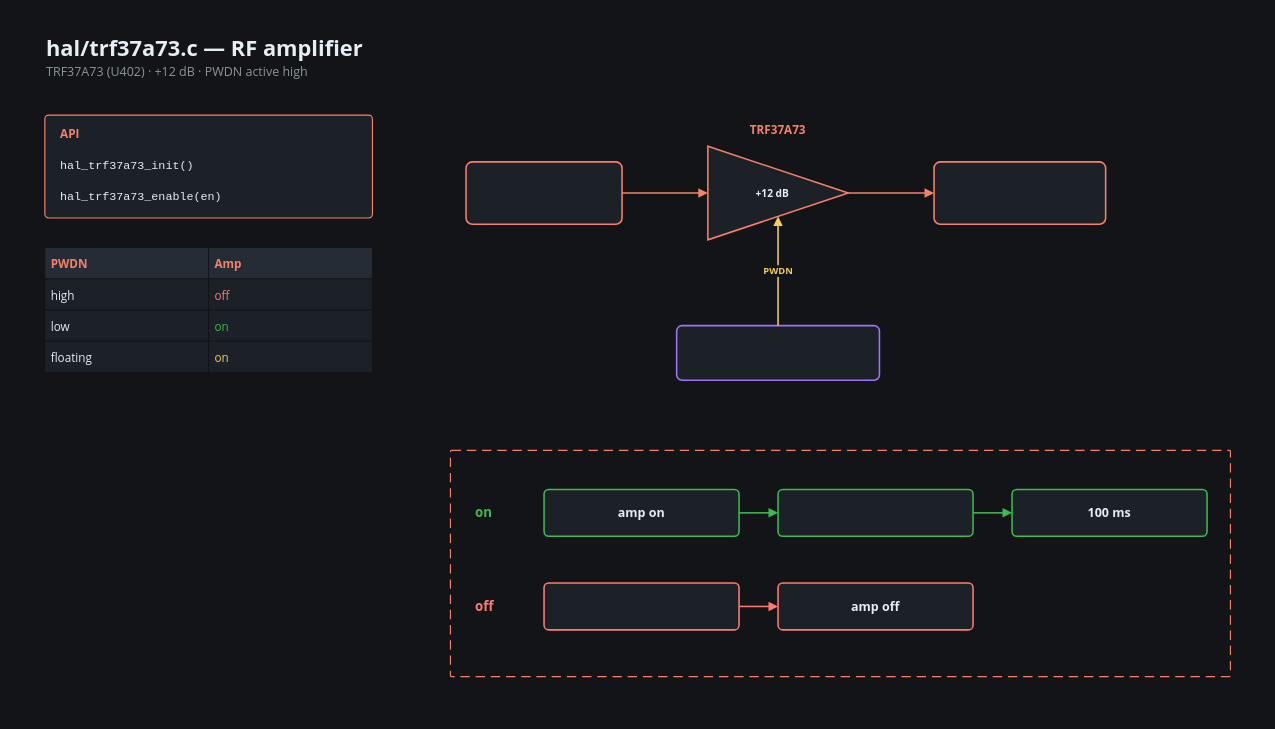
This 1275x729 diagram has some shape labels left out. Each missing label, with the box of its shape:
HMC1119: (465, 161, 622, 225)
MAX2871 off: (543, 582, 739, 630)
MAX2871 on: (777, 488, 973, 537)
Port select: (933, 161, 1106, 225)
rf_ctrl_source_power(on): (450, 450, 1231, 677)
RP2350B: (675, 324, 880, 381)
